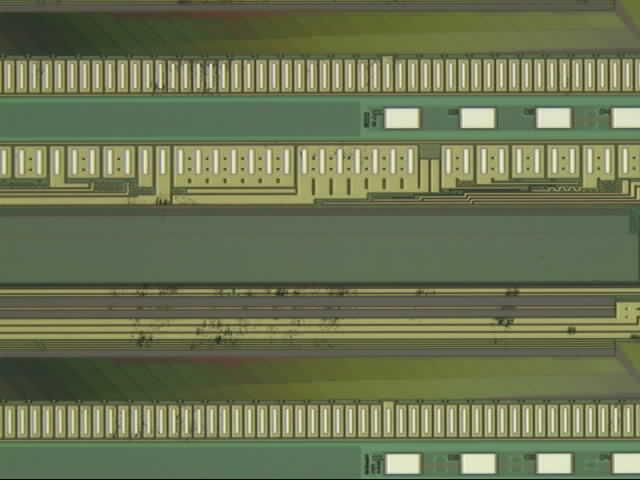SCRATCH: (99, 279, 596, 359)
